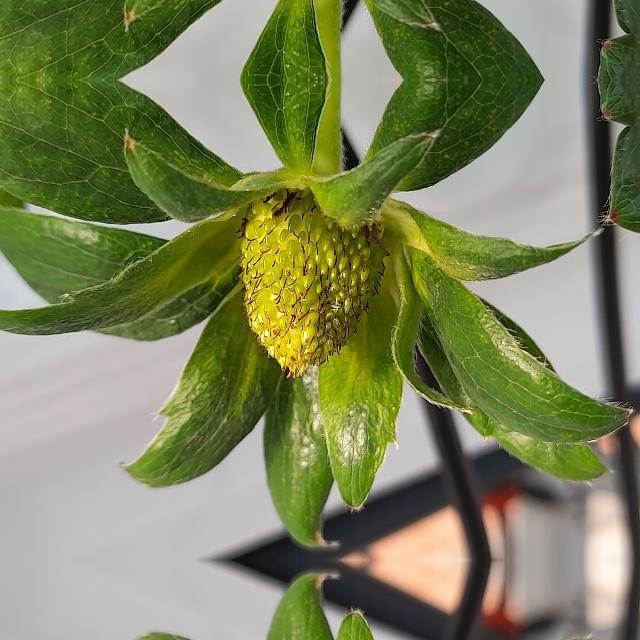Health_25: (236, 176, 390, 380)
